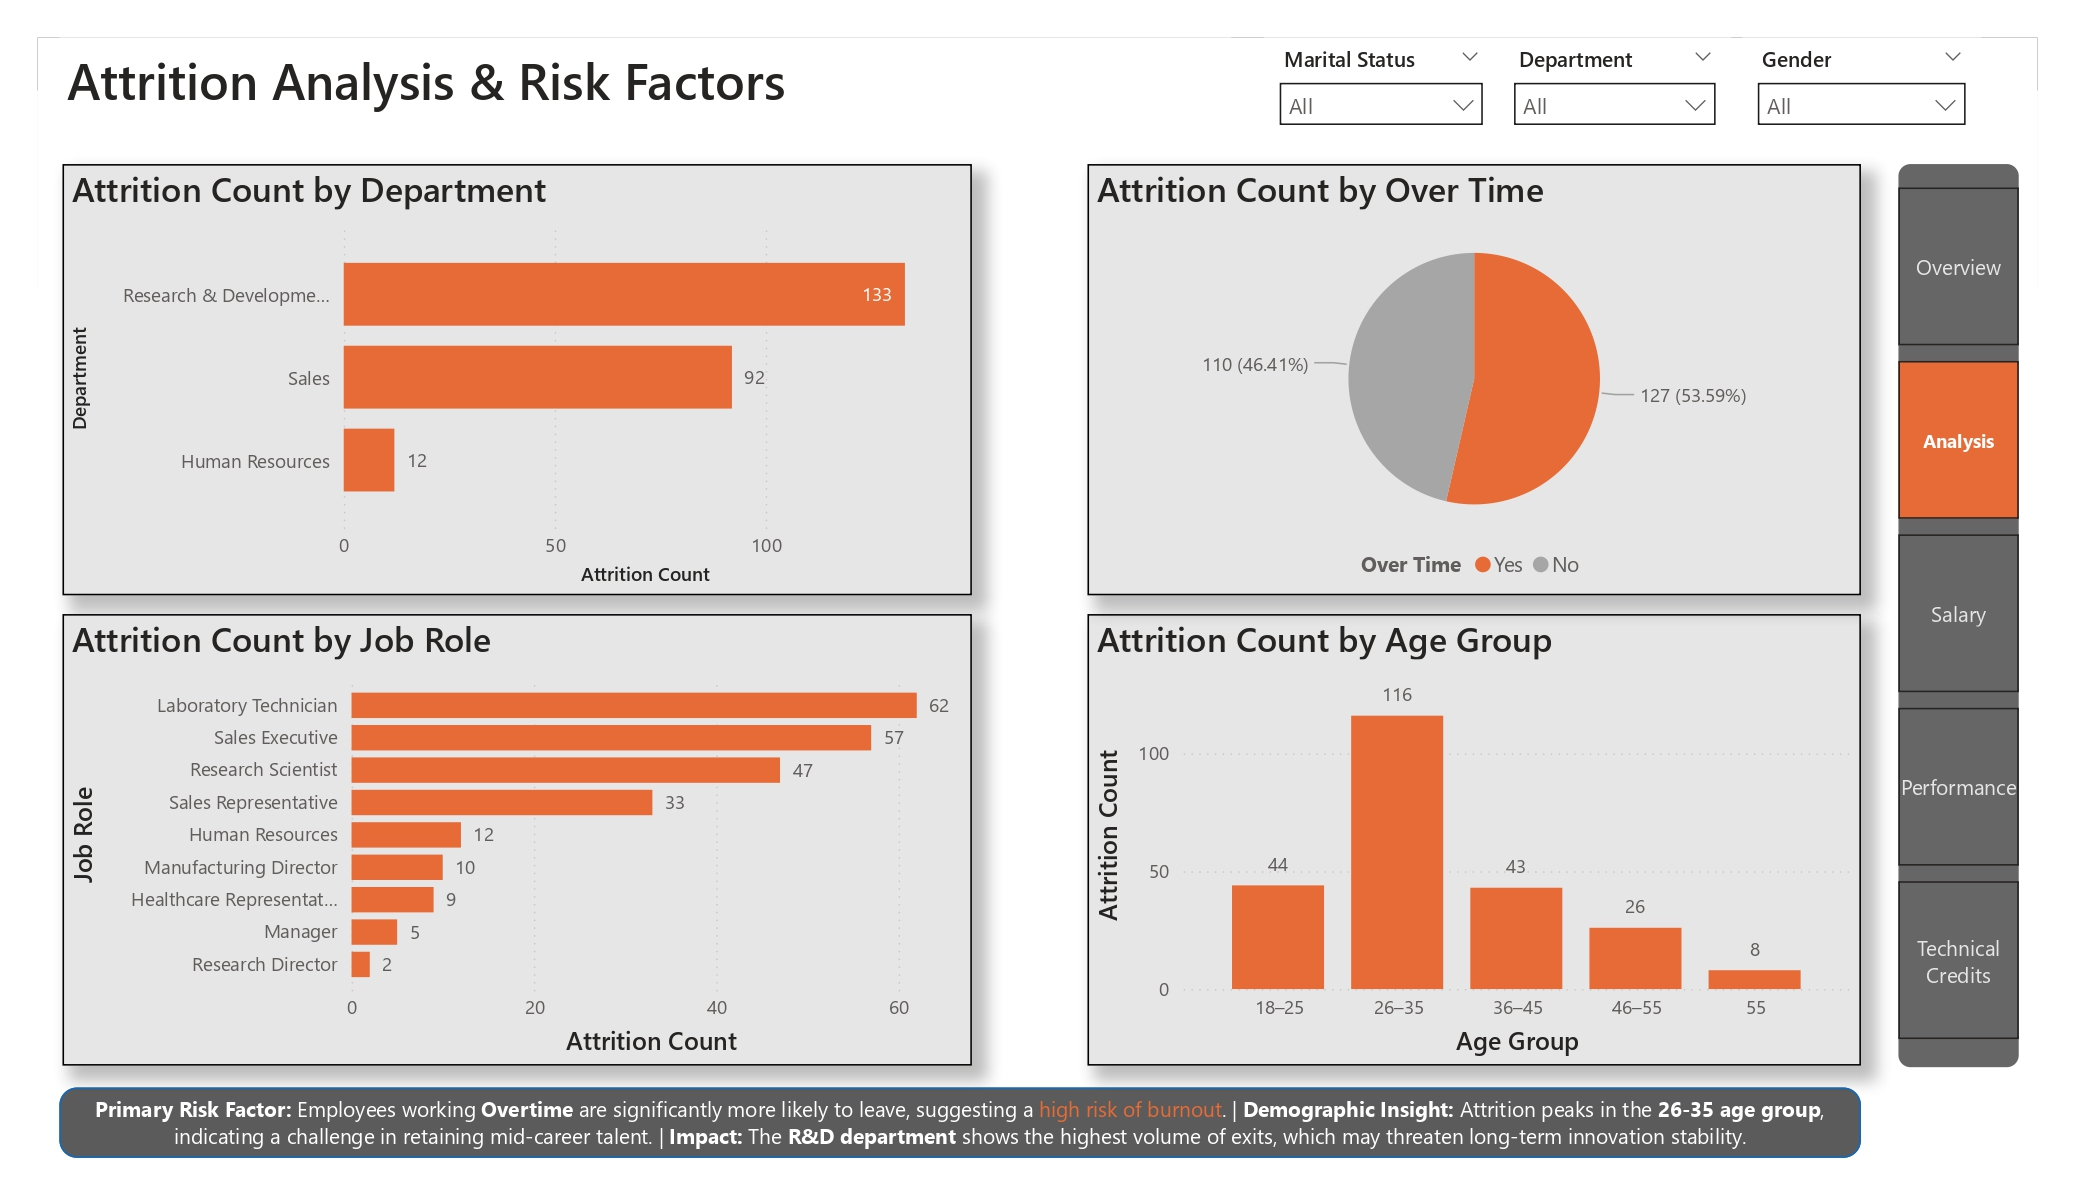

The dashboard page shown, as its layout file describes it:
{"tool":"powerbi","page":{"name":"Analysis","canvas":[1280,720],"ordinal":1},"visuals":[{"type":"clusteredBarChart","fields":{"Category":["HR.Department"],"Y":["HR.Attrition Count"]},"box":[15.6,81.4,582,275.4],"z":0},{"type":"clusteredBarChart","fields":{"Category":["HR.Job Role"],"Y":["HR.Attrition Count"]},"box":[15.6,368.9,582,289.3],"z":1000},{"type":"clusteredColumnChart","fields":{"Category":["HR.Age Group"],"Y":["HR.Attrition Count"]},"box":[672,368.9,495.4,289.3],"z":2000},{"type":"pieChart","fields":{"Category":["HR.Over Time"],"Y":["HR.Attrition Count"]},"box":[672,81.4,495.4,275.4],"z":3000},{"type":"slicer","fields":{"Values":["HR.Department"]},"box":[935.3,0,149,60.6],"z":4000},{"type":"slicer","fields":{"Values":["HR.Gender"]},"box":[1091.2,0,152.4,60.6],"z":5000},{"type":"slicer","fields":{"Values":["HR.Marital Status"]},"box":[784.6,0,150.7,57.2],"z":6000},{"type":"textbox","box":[14,0,750,72],"z":7000},{"type":"shape","box":[1191,81,77,578],"z":8000},{"type":"pageNavigator","box":[1191,96,77,546],"z":9000},{"type":"shape","box":[13.5,671.5,1153.8,45.1],"z":10000},{"type":"textbox","box":[13.5,671.5,1153.8,46.6],"z":11000}]}

Visuals, with their boxes in screenshot pixels (x1, y1, x2, y2):
clusteredBarChart - HR.Department x HR.Attrition Count: (78, 169, 976, 593)
clusteredBarChart - HR.Job Role x HR.Attrition Count: (78, 612, 976, 1058)
clusteredColumnChart - HR.Age Group x HR.Attrition Count: (1090, 612, 1854, 1058)
pieChart - HR.Over Time x HR.Attrition Count: (1090, 169, 1854, 593)
slicer - HR.Department: (1496, 43, 1726, 137)
slicer - HR.Gender: (1737, 43, 1972, 137)
slicer - HR.Marital Status: (1264, 43, 1496, 131)
textbox: (76, 43, 1232, 154)
shape: (1891, 168, 2009, 1059)
pageNavigator: (1891, 191, 2009, 1033)
shape: (75, 1079, 1854, 1148)
textbox: (75, 1079, 1854, 1151)
